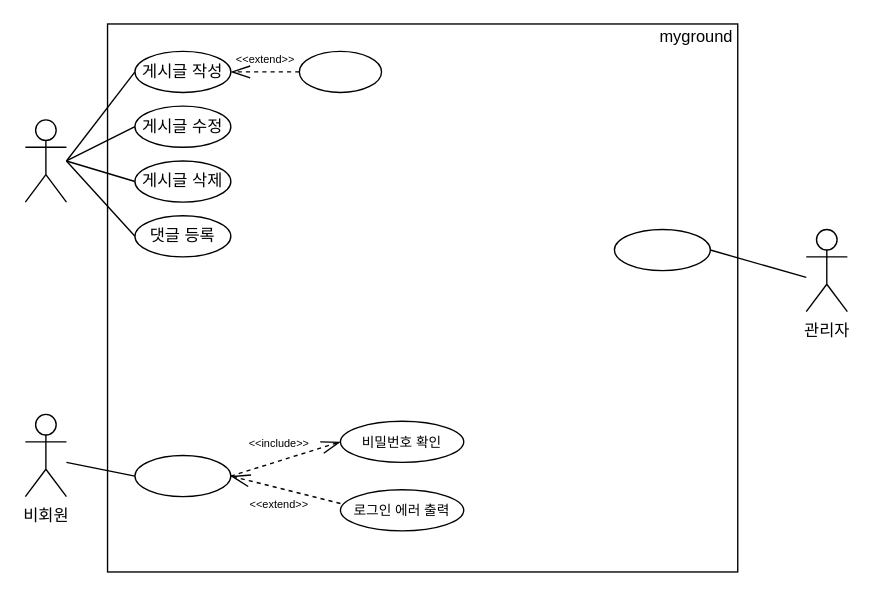
The diagram is 873 pixels wide and 596 high, and some of its shapes have lost their labels. Each missing label, with the centre of its shape:
"파일 첨부" goes at [340,71].
"회원" goes at [45,160].
"회원 관리" goes at [661,249].
"회원가입" goes at [182,475].
